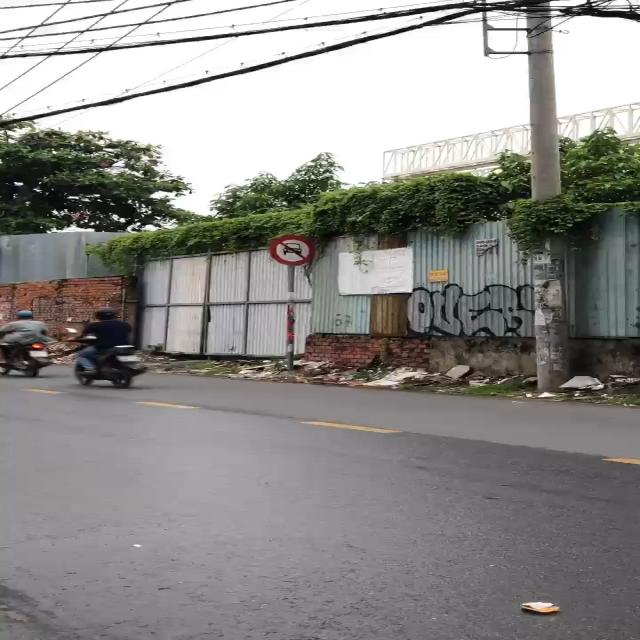Bien bao cam xe oto: (266, 233, 318, 268)
